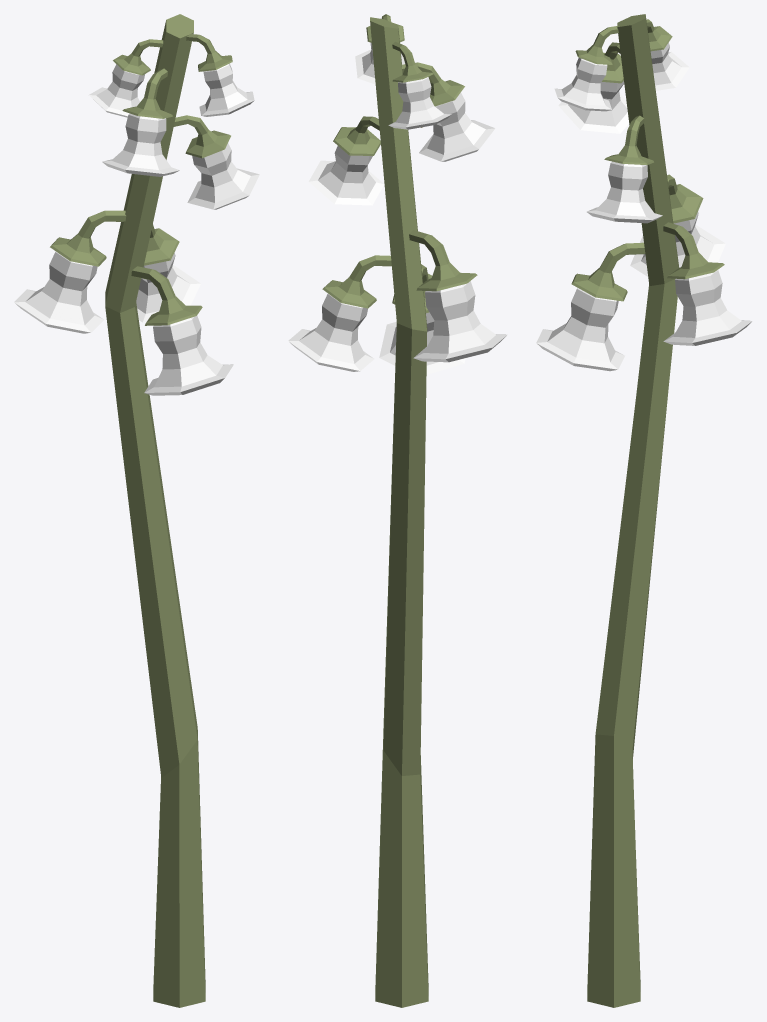
File: Bell Flower Harvested.fbx
3 views of the same model, side by side, from view 1: azimuth 30°, elevation 25°; view 2: azimuth 150°, elevation 25°; view 3: azimuth 270°, elevation 25° (orthographic).
Parts seen in each view (by area): view 1: bell_flower; view 2: bell_flower; view 3: bell_flower.
Boxes of the visible parts, <box> form: bell_flower: <box>14,14,259,1007</box>; bell_flower: <box>288,14,507,1007</box>; bell_flower: <box>536,14,752,1007</box>.
Size of the model in its own units: 0.1938 by 0.861 by 0.1718.
